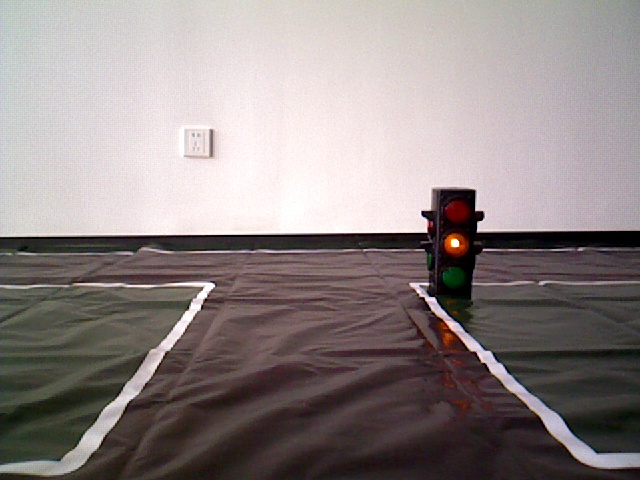yellow: (425, 186, 483, 300)
